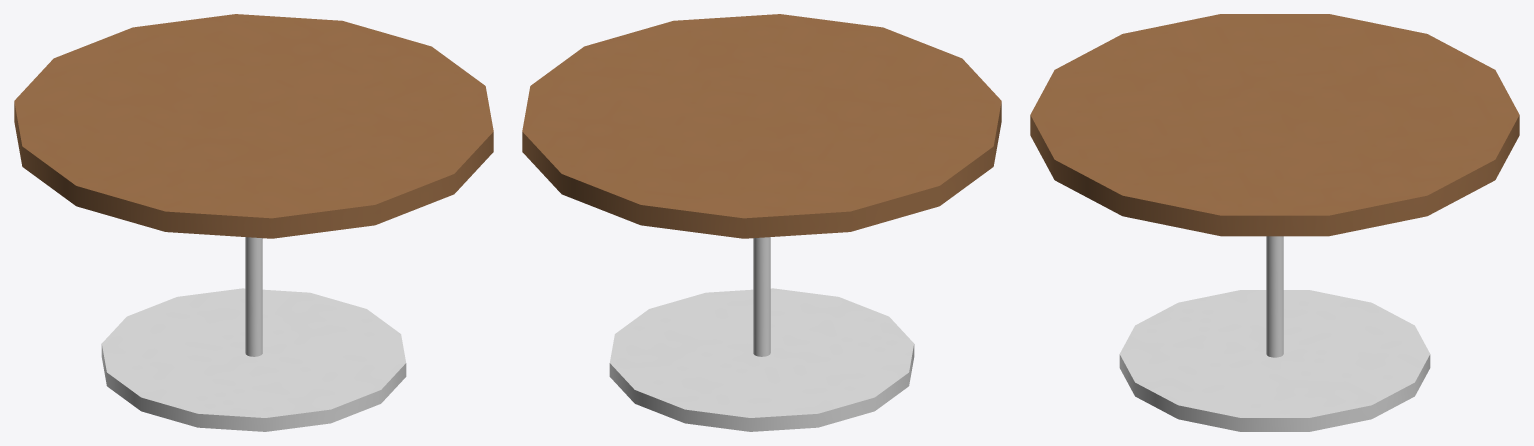
The model's file is Table_01_01.fbx.
3 renders of one model, left to right at view 1: azimuth 30°, elevation 25°; view 2: azimuth 150°, elevation 25°; view 3: azimuth 270°, elevation 25°, orthographic.
Parts seen in each view (by area): view 1: Table_01_01; view 2: Table_01_01; view 3: Table_01_01.
Part boxes in pixels (x1,y1,x2,y2): Table_01_01: (14, 14, 493, 431); Table_01_01: (522, 14, 1001, 431); Table_01_01: (1030, 14, 1519, 431).
Size of the model in its own units: 1.36 by 0.7993 by 1.4.
